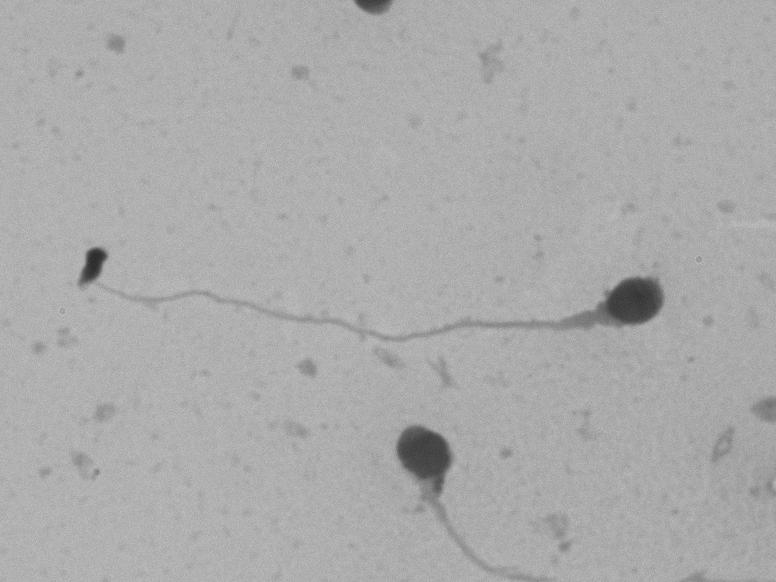Abnormal: (99, 206, 678, 372), (332, 409, 517, 573)
